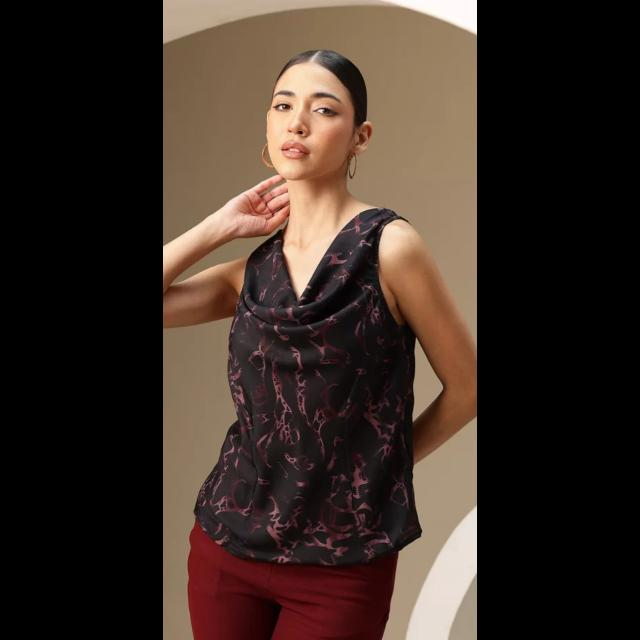top: (218, 232, 420, 568)
